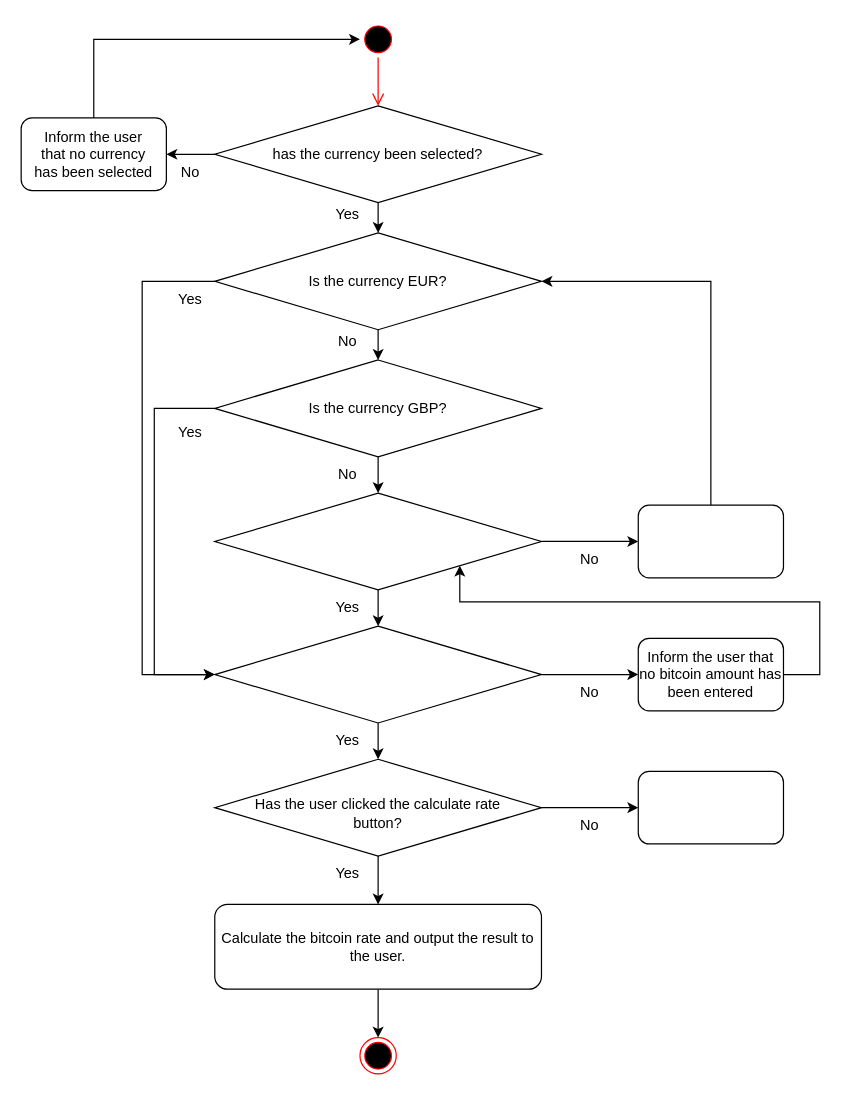
This 851x1095 diagram has some shape labels left out. The shapes that lost their labels are listed below. From the top down, each one's centre as x and y in pixels, then its label:
At (377,541): "Is the currency USD?".
At (710,541): "Inform the user that invalid currency has been entered".
At (377,674): "Has there been a bitcoin amount entered?".
At (710,807): "Do nothing. Wait for it to be clicked.".
